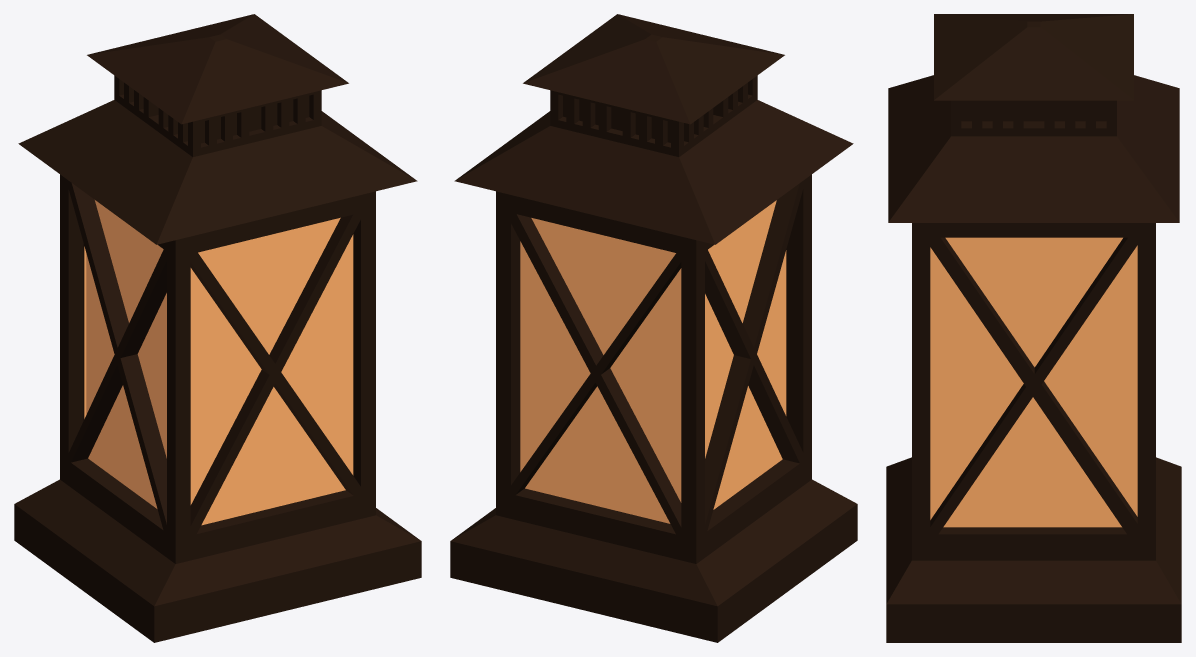
File: lantern.fbx
3 renders of one model, left to right at view 1: azimuth 30°, elevation 25°; view 2: azimuth 150°, elevation 25°; view 3: azimuth 270°, elevation 25°, orthographic. The views are drawn at different scales.
Parts seen in each view (by area): view 1: Cube; view 2: Cube; view 3: Cube.
Part boxes in pixels (bbox=[...]): Cube: bbox=[14, 14, 421, 642]; Cube: bbox=[450, 14, 857, 642]; Cube: bbox=[886, 14, 1181, 642].
Bounding box in the file's own units: 704 × 1311 × 638.
